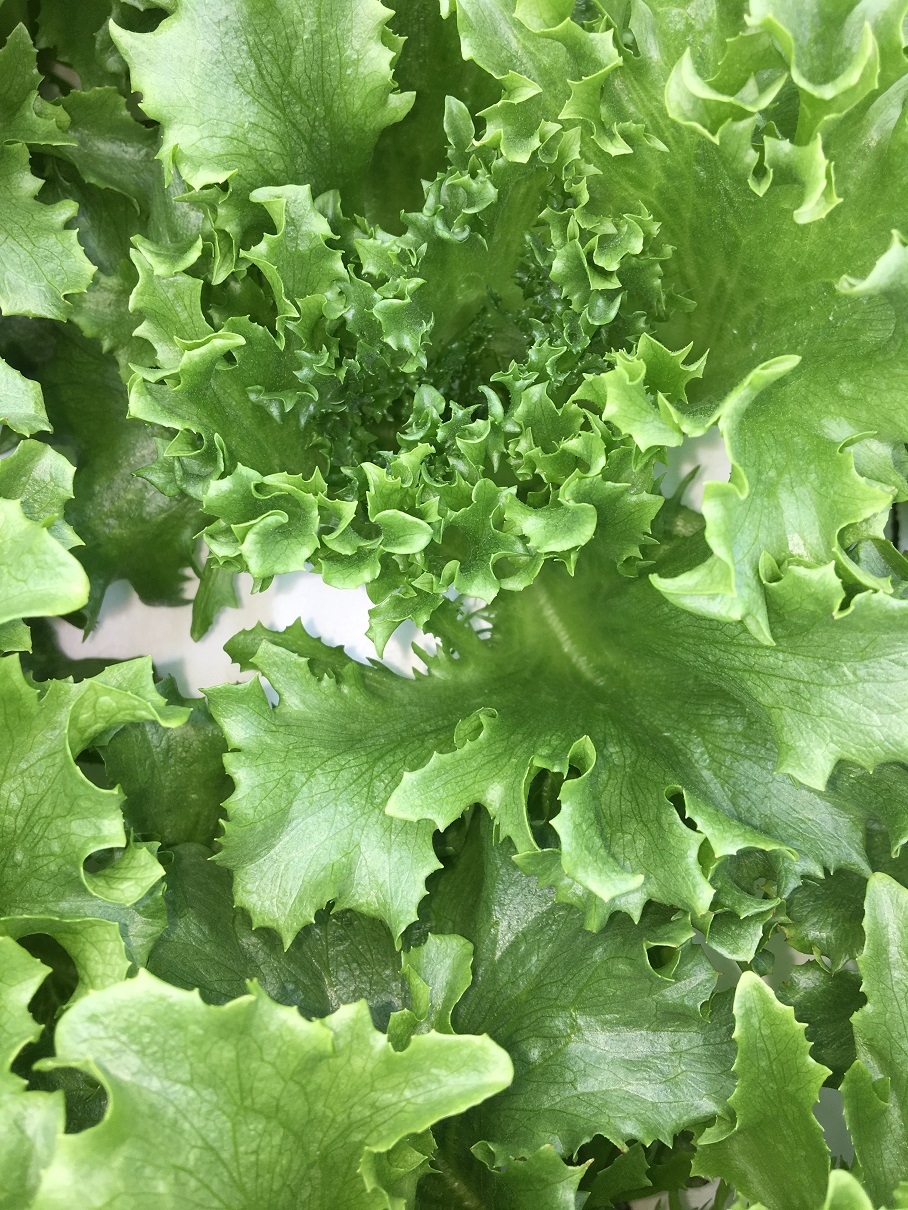tipburn: (765, 925, 803, 956), (762, 898, 785, 921)
